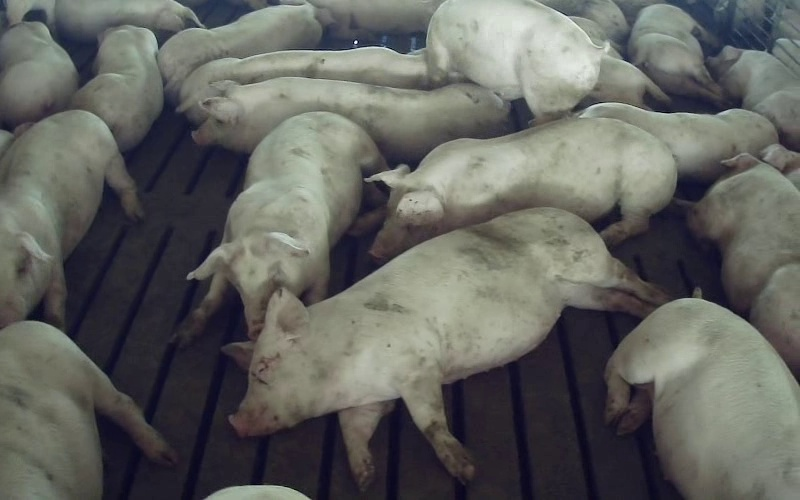pig: (223, 208, 666, 486), (173, 112, 385, 346), (370, 118, 675, 259), (605, 288, 799, 499), (0, 110, 142, 327), (192, 77, 508, 162), (687, 154, 799, 377), (426, 0, 605, 123), (178, 46, 429, 123), (158, 3, 322, 104), (580, 103, 778, 182), (71, 25, 162, 151), (707, 46, 799, 150), (628, 4, 722, 104), (0, 22, 77, 127), (55, 0, 204, 41)
